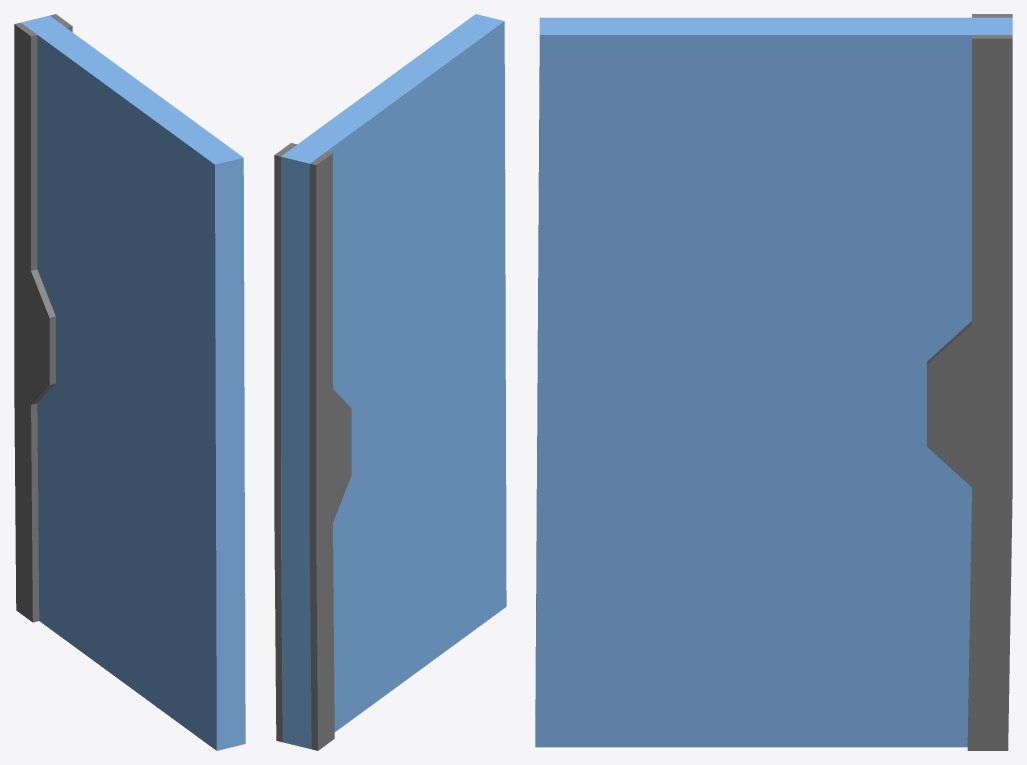
File: Door.fbx
3 views of the same model, side by side, from view 1: azimuth 30°, elevation 25°; view 2: azimuth 150°, elevation 25°; view 3: azimuth 270°, elevation 25° (orthographic). The views are drawn at different scales.
Visible parts, largest first — view 1: Glass Door 2; view 2: Glass Door 2; view 3: Glass Door 2.
Boxes of the visible parts, left/top/right/bottom form: Glass Door 2: left=14, top=14, right=245, bottom=750; Glass Door 2: left=274, top=14, right=506, bottom=750; Glass Door 2: left=535, top=14, right=1012, bottom=750.
Bounding box in the file's own units: 1.3 × 17.45 × 10.6.
